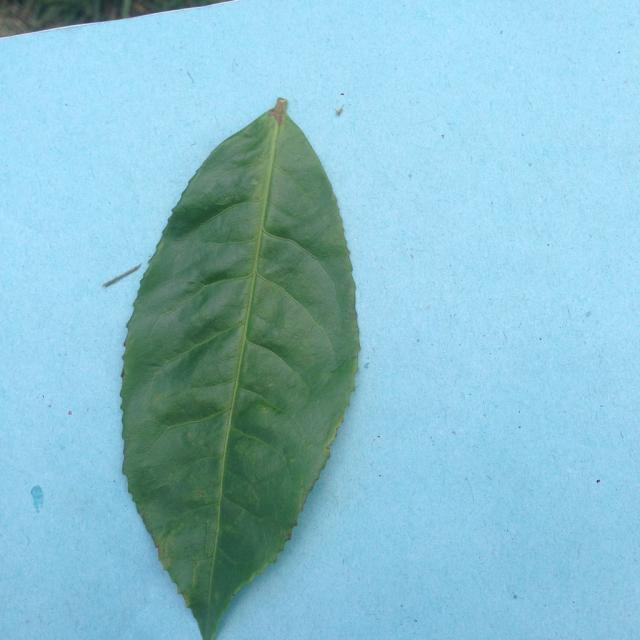Healthy: (109, 86, 341, 640)
